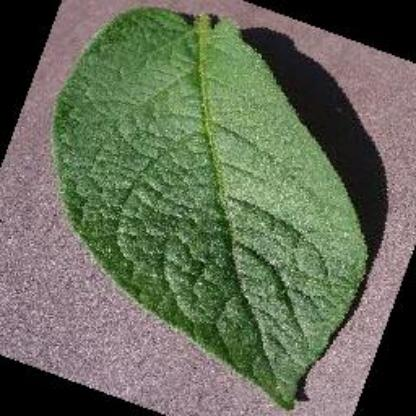Healthy-plant: (49, 5, 371, 406)
